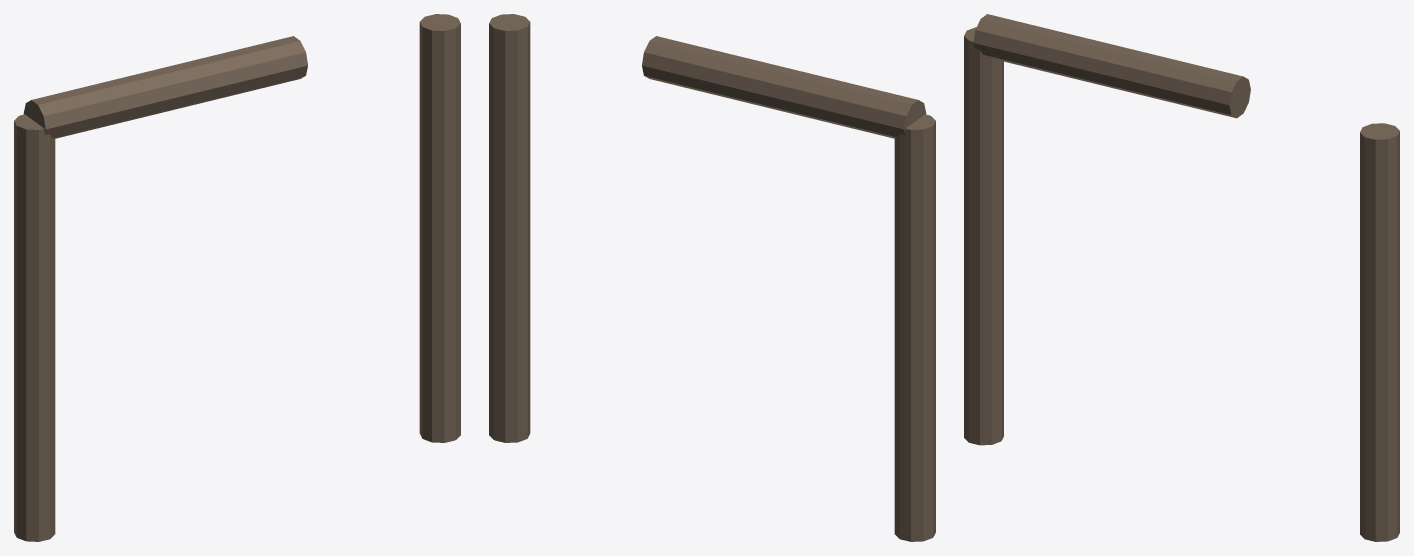
File: exposed_frame_broken.glb
3 renders of one model, left to right at view 1: azimuth 30°, elevation 25°; view 2: azimuth 150°, elevation 25°; view 3: azimuth 330°, elevation 25°, orthographic. The views are drawn at different scales.
Visible parts, largest first — view 1: Body.054; view 2: Body.054; view 3: Body.054.
Boxes of the visible parts, bbox=[...] form: Body.054: bbox=[14, 14, 460, 541]; Body.054: bbox=[489, 14, 935, 541]; Body.054: bbox=[964, 14, 1399, 541].
Size of the model in its own units: 1.85 by 1.73 by 0.16.
